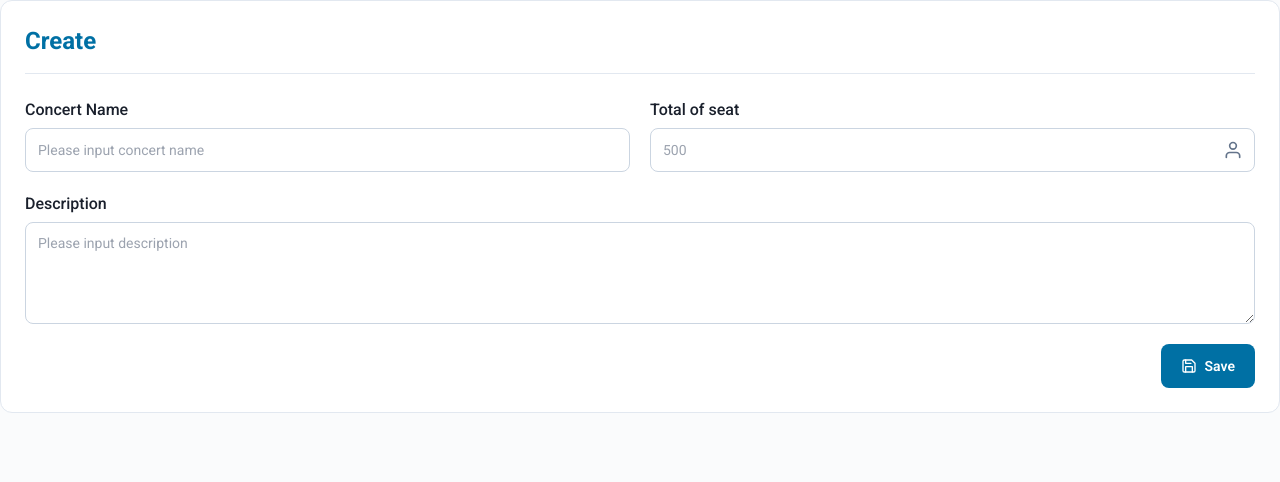
Test: ConcertForm validation › blocks submit and shows inline errors when empty
Click the button with test id "concert-save-btn" at (1208,366), box [1161,344,1255,388]
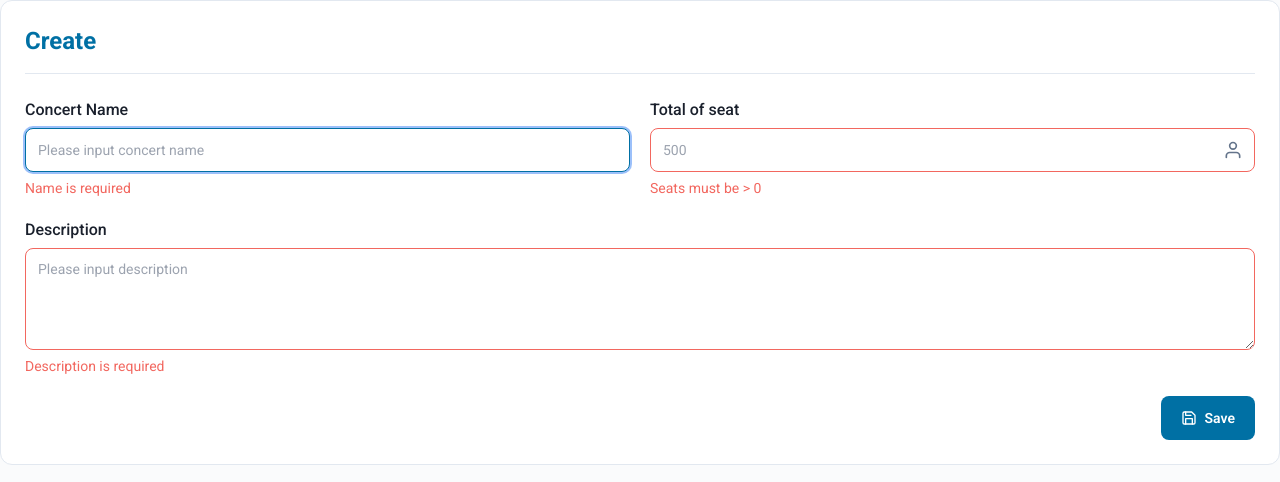
Expected: the text with test id "concert-name-input-error" shows "required", [25,180,131,196]
Expected: the text with test id "concert-description-input-error" shows "required", [25,358,164,374]
